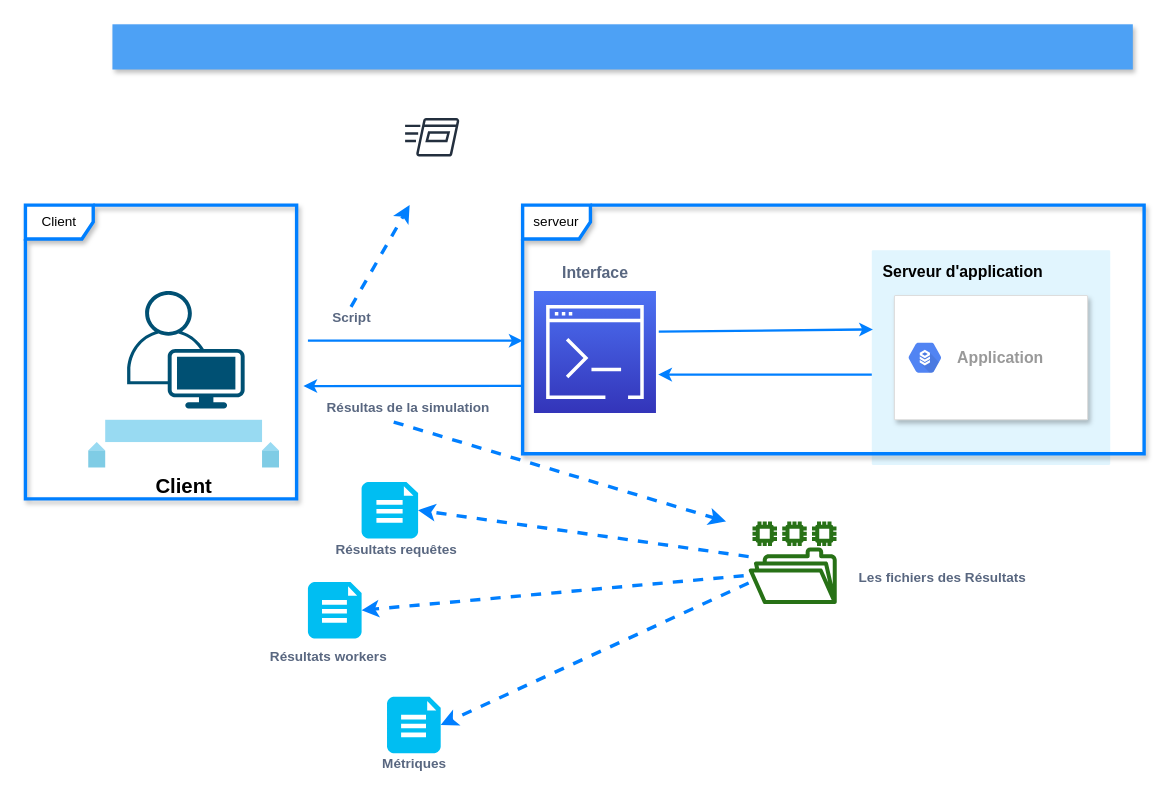
The diagram is 1172 pixels wide and 794 high, and some of its shapes have lost their labels. Here are the shapes that lost their labels. From the top down, the centre of each, then its label:
At (x=623, y=48): "Architecture logicielle".
At (x=431, y=136): "Paramèters de la simulation".
